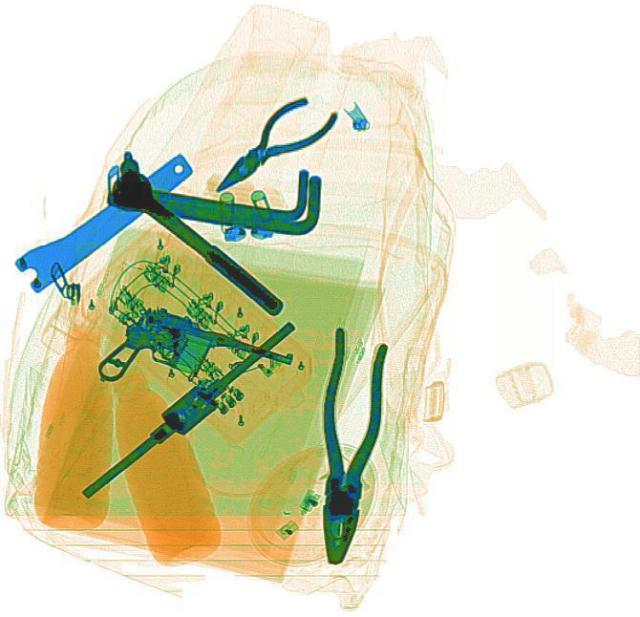Gun: (90, 294, 294, 435)
Pliers: (302, 324, 390, 562), (196, 82, 342, 207)
